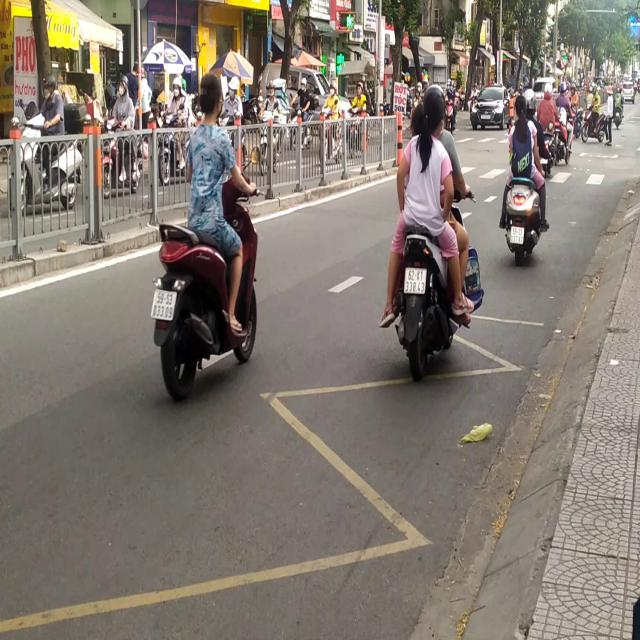bien_trang: (150, 284, 177, 322), (403, 265, 424, 298)
